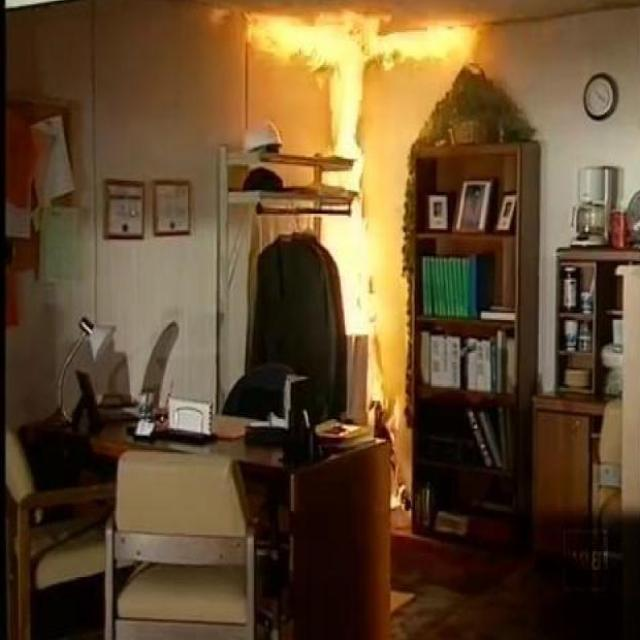smoke: (316, 67, 375, 336), (235, 8, 480, 65)
